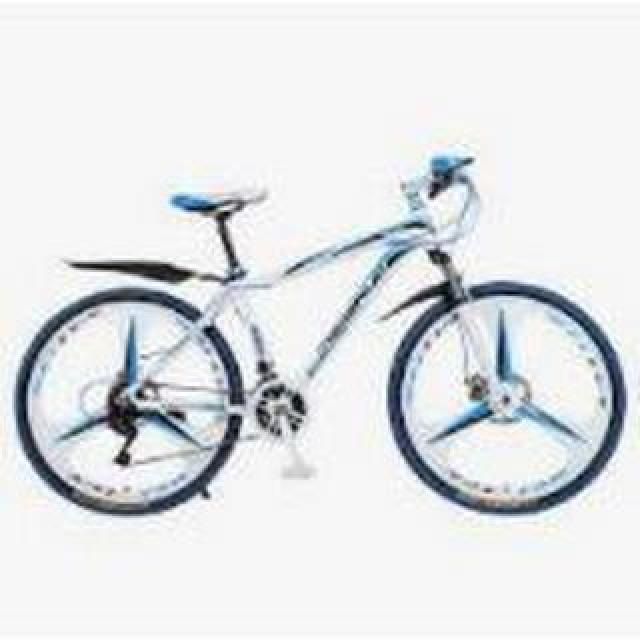Person: (12, 138, 634, 518)
